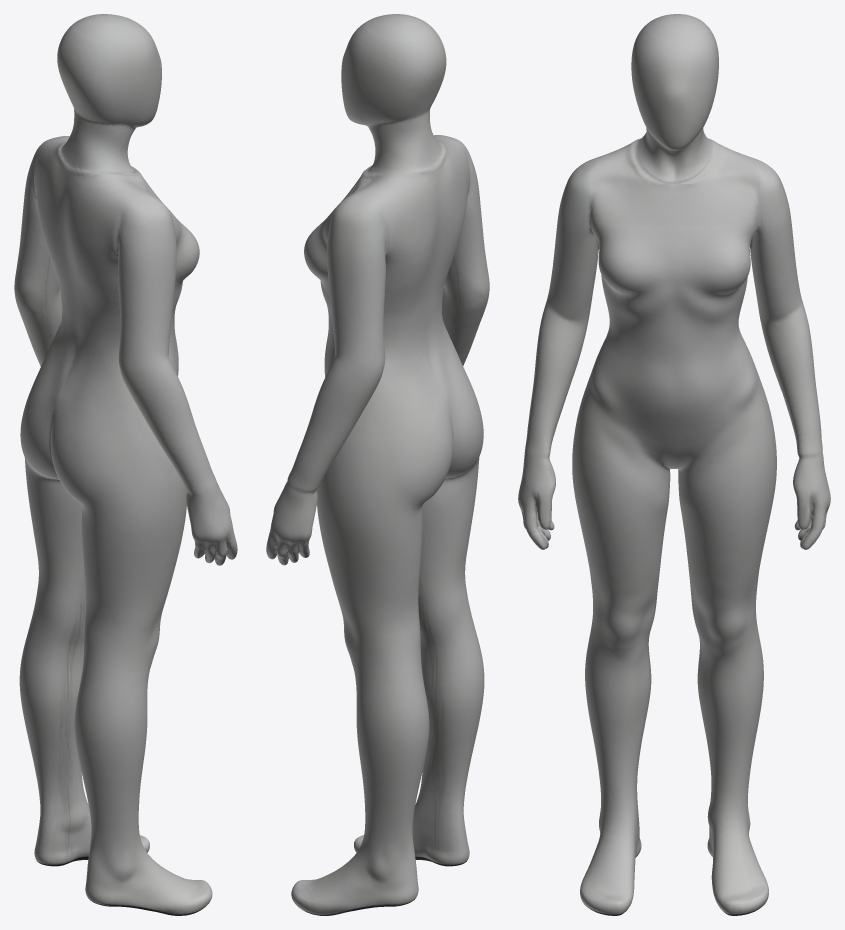
Rendered from female-normal.glb.
The picture shows the model from 3 angles, left to right: view 1: azimuth 30°, elevation 25°; view 2: azimuth 150°, elevation 25°; view 3: azimuth 270°, elevation 25°; orthographic projection.
Visible parts, largest first — view 1: tripo_node_0e7e685d-0b0b-4dc3-a924-dc31dbea5d22; view 2: tripo_node_0e7e685d-0b0b-4dc3-a924-dc31dbea5d22; view 3: tripo_node_0e7e685d-0b0b-4dc3-a924-dc31dbea5d22.
Boxes of the visible parts, x1,y1,x2,y2 form: tripo_node_0e7e685d-0b0b-4dc3-a924-dc31dbea5d22: (14, 14, 237, 915); tripo_node_0e7e685d-0b0b-4dc3-a924-dc31dbea5d22: (266, 14, 489, 915); tripo_node_0e7e685d-0b0b-4dc3-a924-dc31dbea5d22: (518, 14, 830, 915).
Bounding box in the file's own units: 0.161 × 1 × 0.3277.
Materials: 1 (1 with a texture image).
